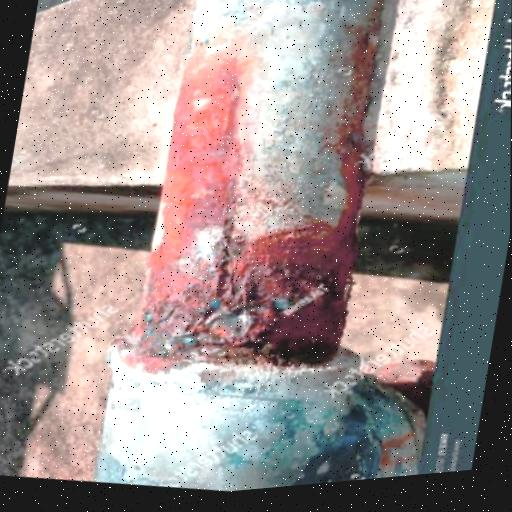corrosion: (126, 30, 386, 370)
